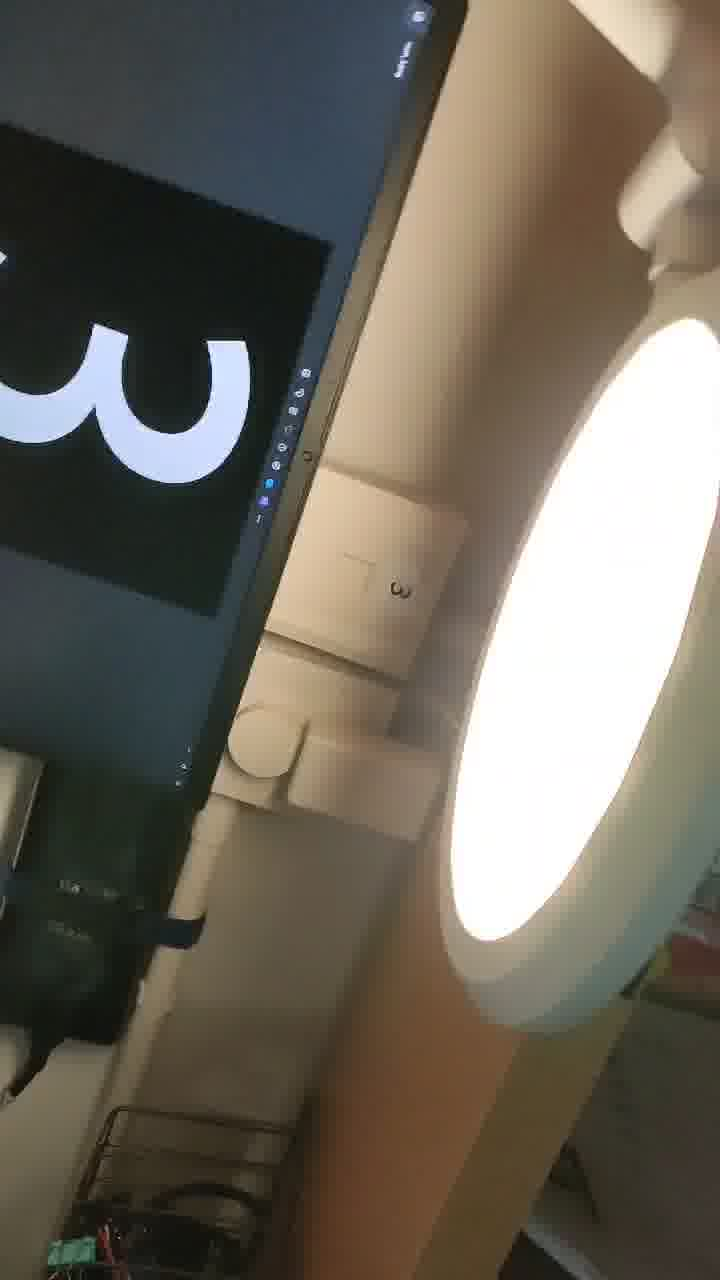three: (1, 179, 320, 565)
